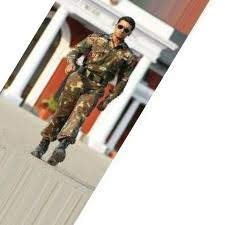uniform: (44, 30, 141, 152)
